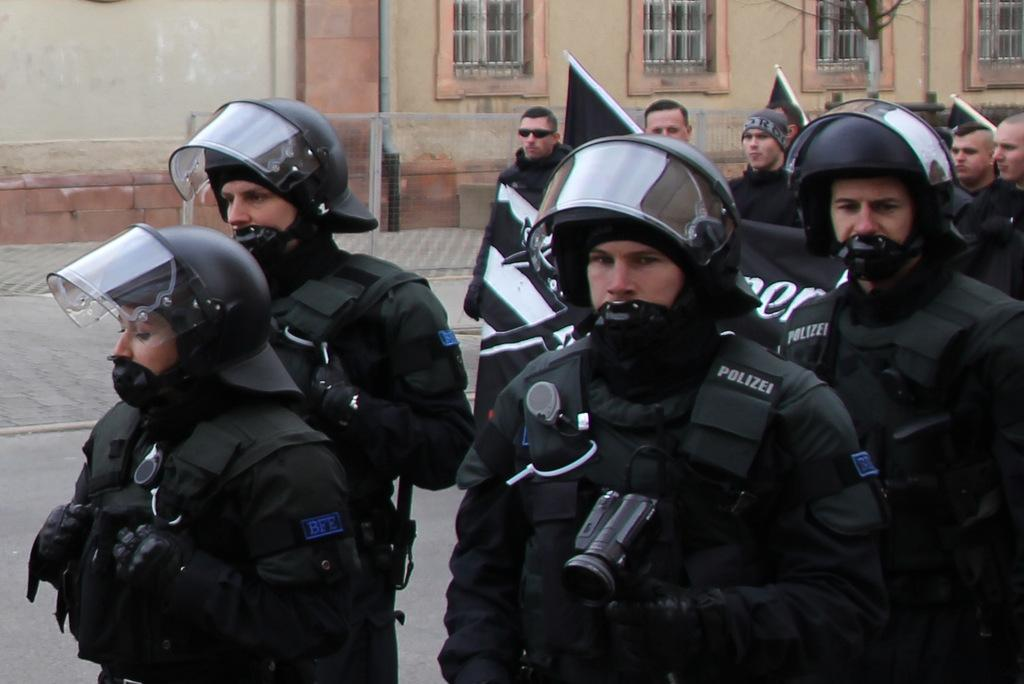helmet: (526, 133, 743, 335), (46, 223, 272, 387), (782, 98, 958, 268), (168, 97, 349, 250)
nohelmet: (643, 98, 693, 164), (740, 109, 789, 172), (949, 121, 996, 186), (517, 106, 560, 163), (992, 113, 1024, 186)
